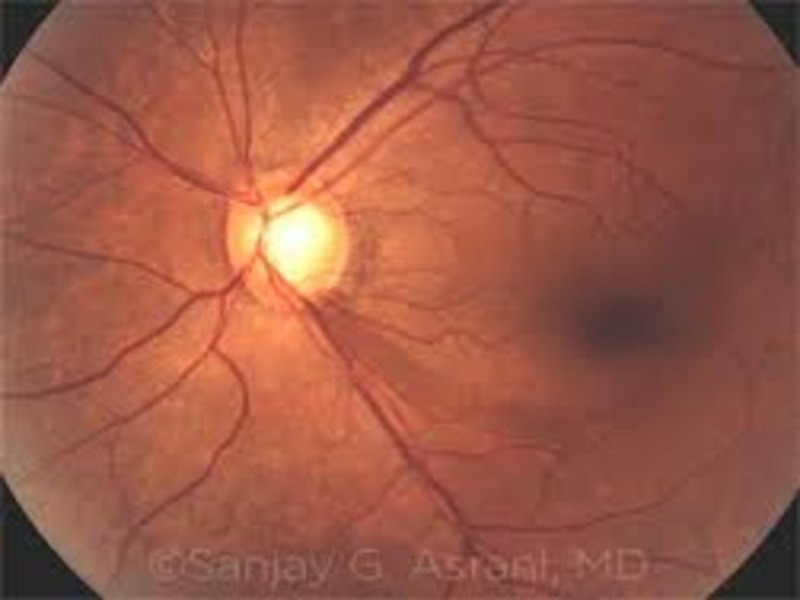Optic Cup: (253, 195, 333, 280)
Optic Disc: (225, 169, 352, 309)
